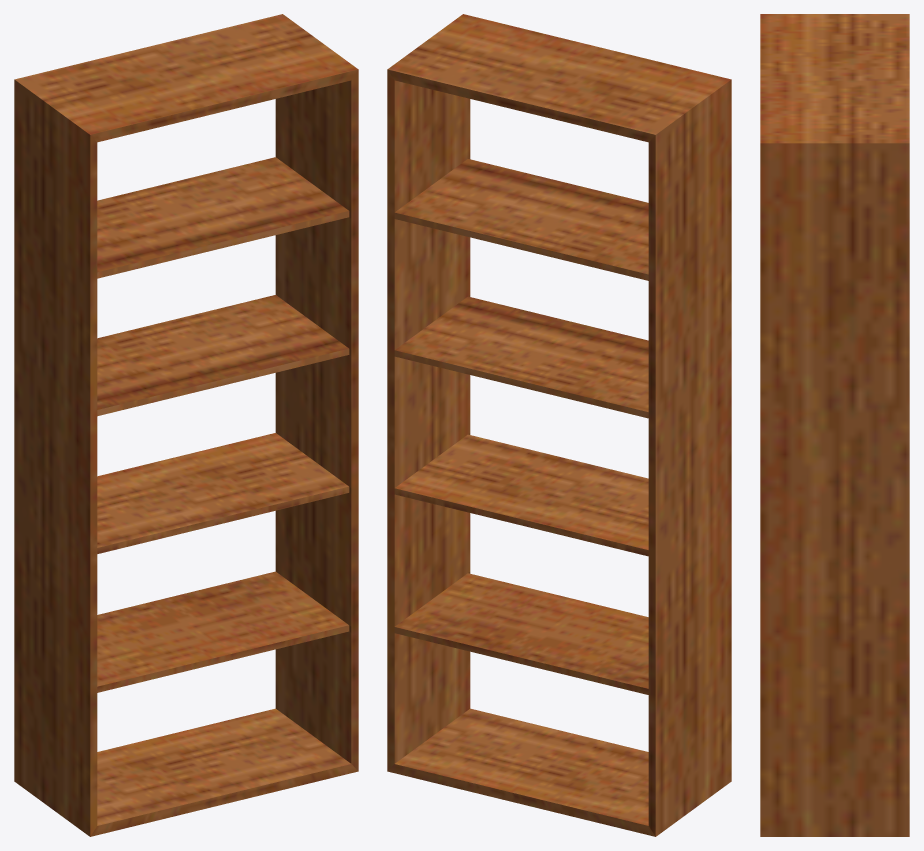
The model's file is book_case_small.obj.
3 renders of one model, left to right at view 1: azimuth 30°, elevation 25°; view 2: azimuth 150°, elevation 25°; view 3: azimuth 270°, elevation 25°, orthographic.
Visible parts, largest first — view 1: book_case_small; view 2: book_case_small; view 3: book_case_small.
Part boxes in pixels (x1,y1,x2,y2): book_case_small: (14,14,358,836); book_case_small: (387,14,731,836); book_case_small: (760,14,909,836).
Bounding box in the file's own units: 1 × 2.5 × 0.4888.
